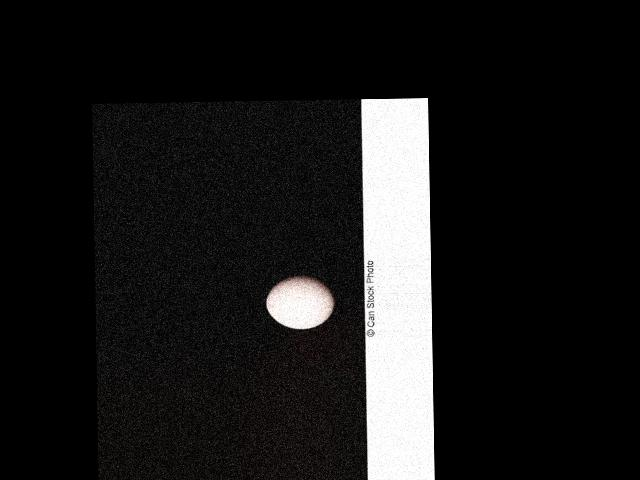egg: (266, 275, 336, 329)
